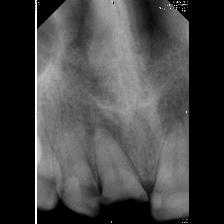apical_lesion: (77, 96, 151, 205)
